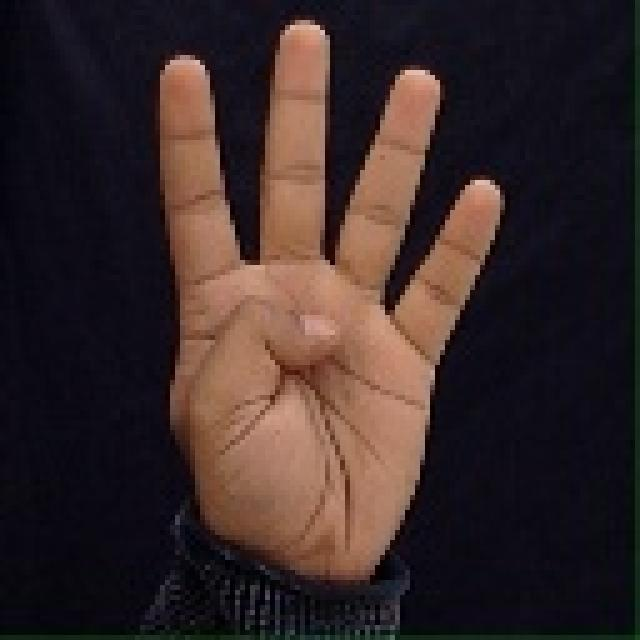Thanks: (131, 6, 531, 640)
